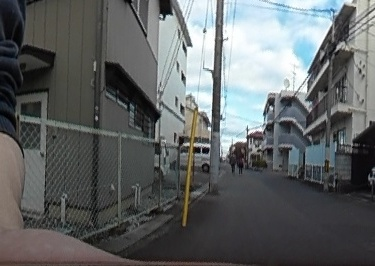person: (237, 149, 244, 172), (230, 149, 236, 171)
